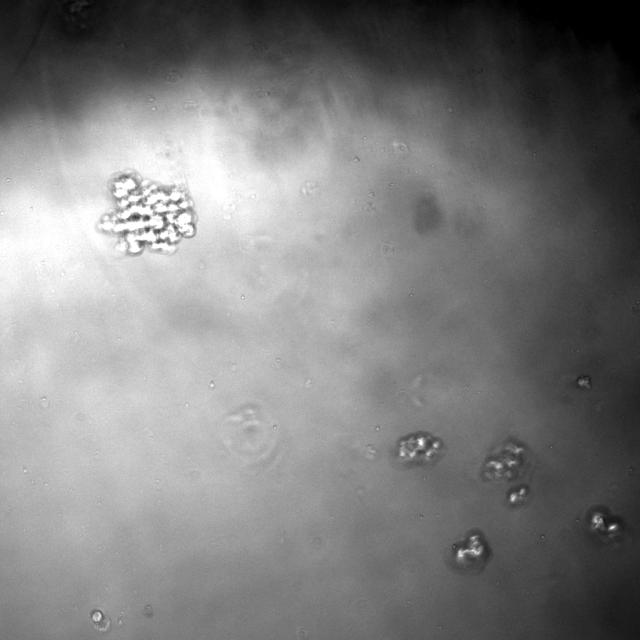organoid: (98, 170, 196, 254), (391, 430, 445, 468), (447, 529, 491, 574), (481, 439, 528, 481), (581, 505, 629, 545), (504, 482, 532, 509), (89, 609, 111, 632), (576, 376, 590, 388)
